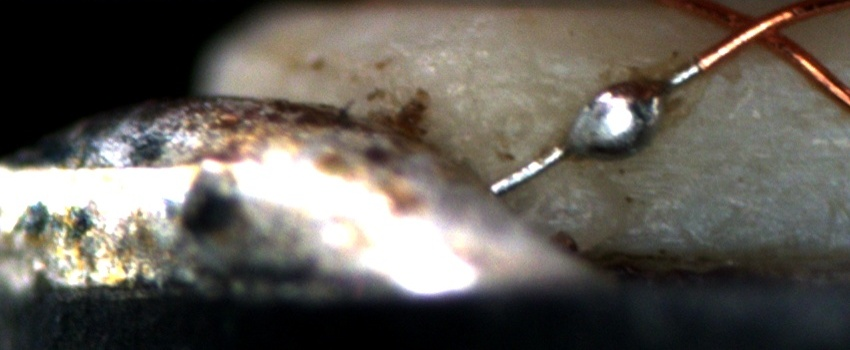CL: (708, 1, 806, 61)
DL: (536, 43, 850, 81)
TB: (565, 81, 653, 158)
TS: (488, 62, 700, 193)
TTCW: (490, 27, 746, 195)
